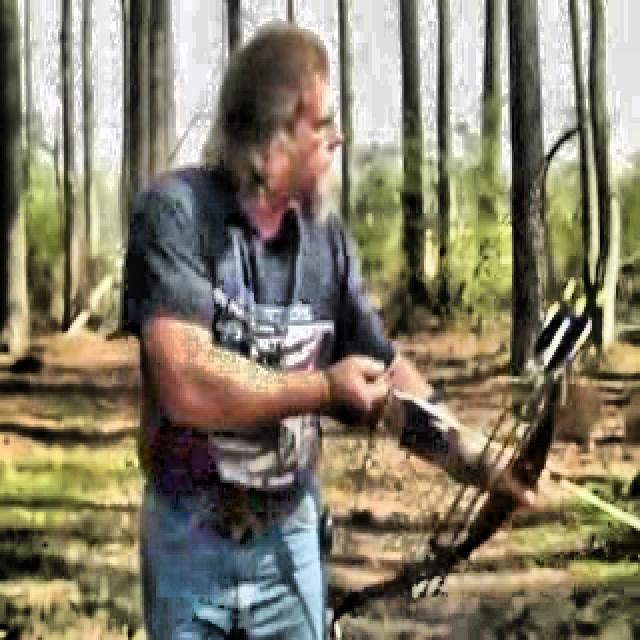I: (115, 18, 544, 640)
